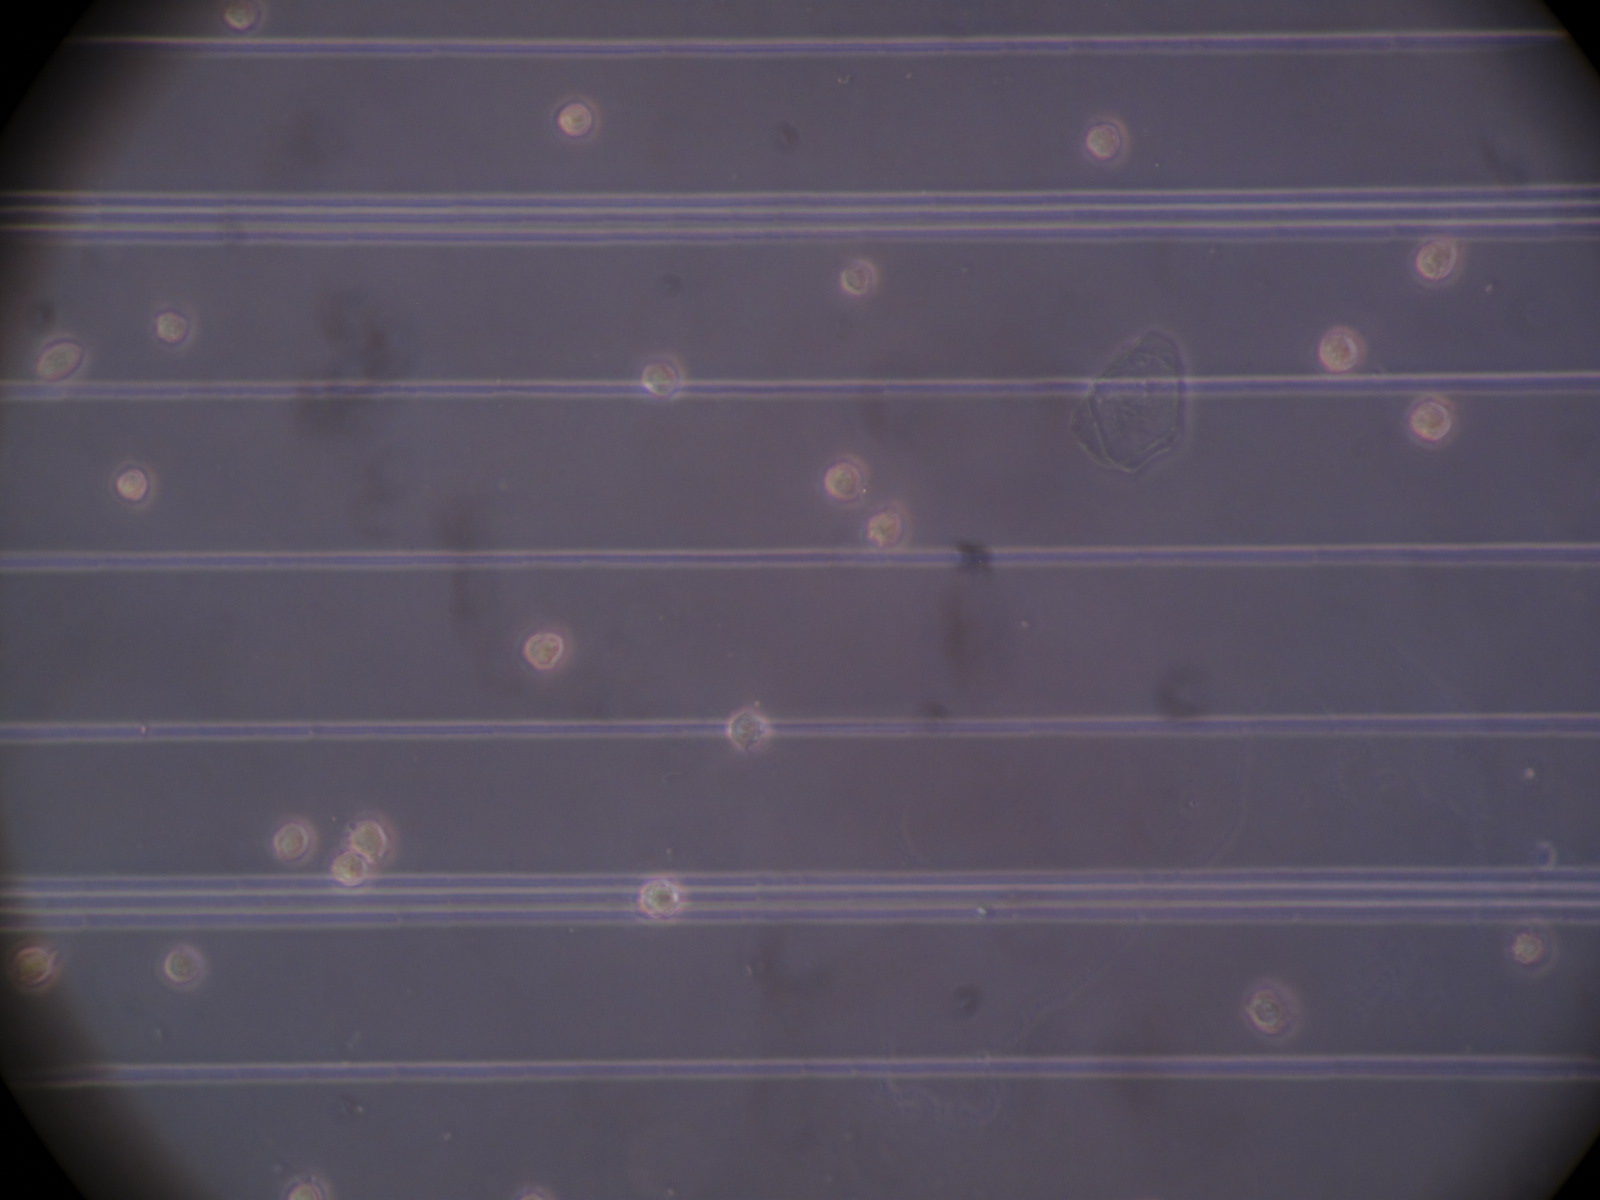hemo: (1241, 978, 1301, 1044), (5, 934, 66, 997), (31, 332, 88, 389), (1511, 916, 1558, 979), (1407, 236, 1465, 287), (818, 453, 871, 508), (1078, 113, 1130, 169), (1405, 392, 1454, 450), (345, 813, 398, 866), (1319, 324, 1367, 382), (637, 872, 688, 923), (549, 95, 601, 144), (160, 939, 208, 992), (271, 816, 320, 866), (866, 500, 911, 555), (110, 460, 157, 511), (328, 850, 377, 897), (724, 706, 775, 753), (149, 306, 197, 354), (523, 625, 573, 671), (641, 352, 684, 402), (224, 1, 268, 37), (842, 258, 878, 296), (282, 1174, 331, 1200)
